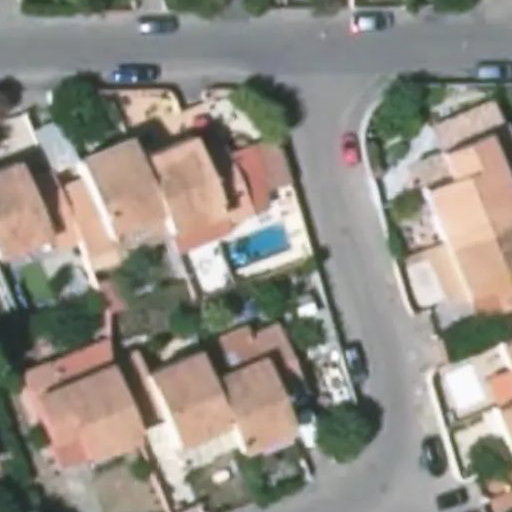pool: (211, 221, 295, 267)
